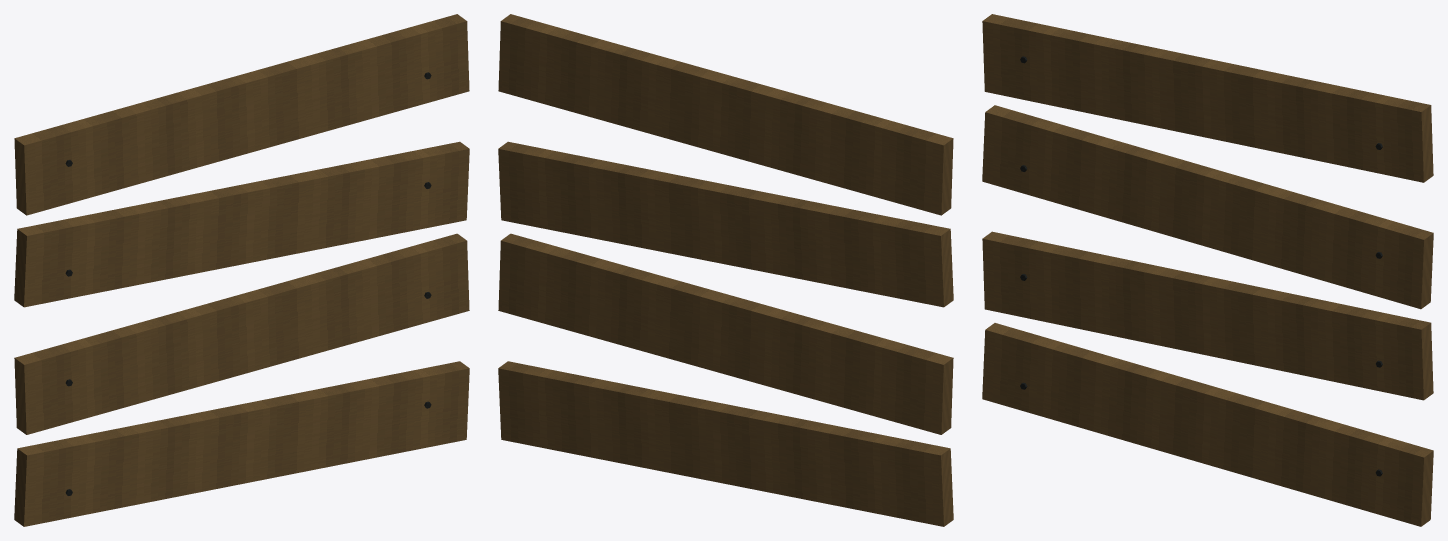
The model's file is level_trace_window_boards.glb.
3 views of the same model, side by side, from view 1: azimuth 30°, elevation 25°; view 2: azimuth 150°, elevation 25°; view 3: azimuth 330°, elevation 25° (orthographic).
Parts seen in each view (by area): view 1: level_trace_window_boards; view 2: level_trace_window_boards; view 3: level_trace_window_boards.
Part boxes in pixels (left/top/right/bottom): level_trace_window_boards: left=14, top=14, right=469, bottom=526; level_trace_window_boards: left=498, top=14, right=953, bottom=526; level_trace_window_boards: left=982, top=14, right=1433, bottom=526.
Size of the model in its own units: 1.32 by 1.18 by 0.062.
2 materials, 2 textured.
